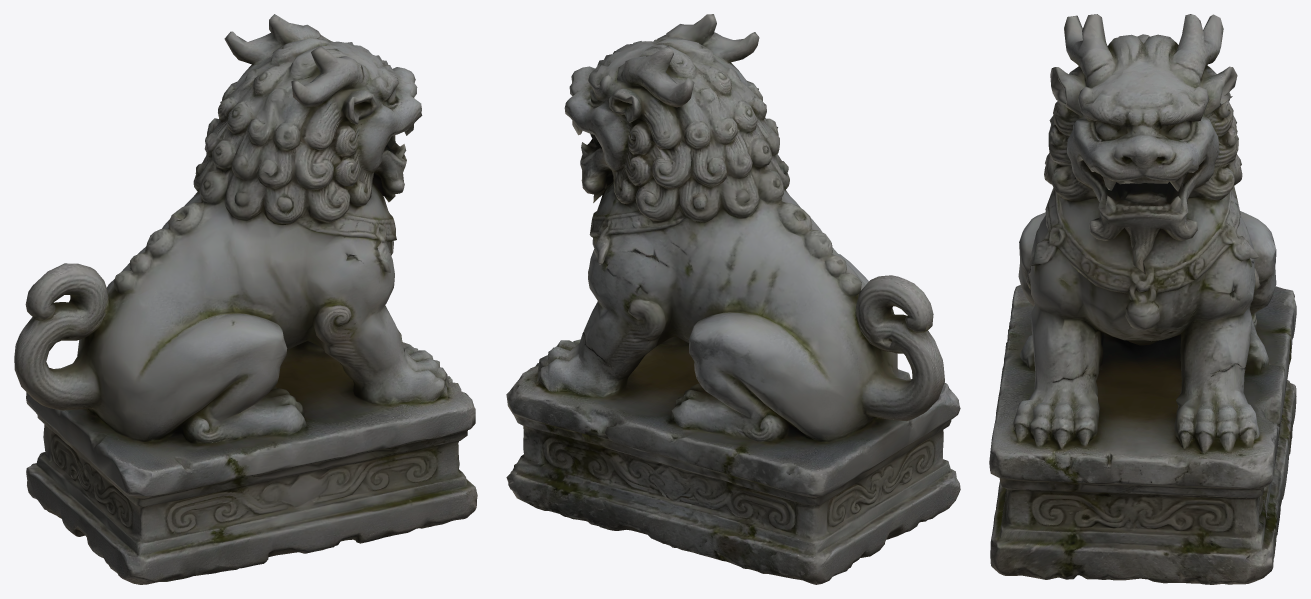
3 views of the same model, side by side, from view 1: azimuth 30°, elevation 25°; view 2: azimuth 150°, elevation 25°; view 3: azimuth 270°, elevation 25° (orthographic). The views are drawn at different scales.
Visible parts, largest first — view 1: tripo_node_70a65380-ea79-440a-9063-443d7d845636; view 2: tripo_node_70a65380-ea79-440a-9063-443d7d845636; view 3: tripo_node_70a65380-ea79-440a-9063-443d7d845636.
Boxes of the visible parts, bbox=[...] form: tripo_node_70a65380-ea79-440a-9063-443d7d845636: bbox=[14, 14, 477, 584]; tripo_node_70a65380-ea79-440a-9063-443d7d845636: bbox=[506, 14, 960, 584]; tripo_node_70a65380-ea79-440a-9063-443d7d845636: bbox=[989, 14, 1296, 584].
Bounding box in the file's own units: 0.9003 × 1 × 0.5495.
Materials: 1 (1 with a texture image).
